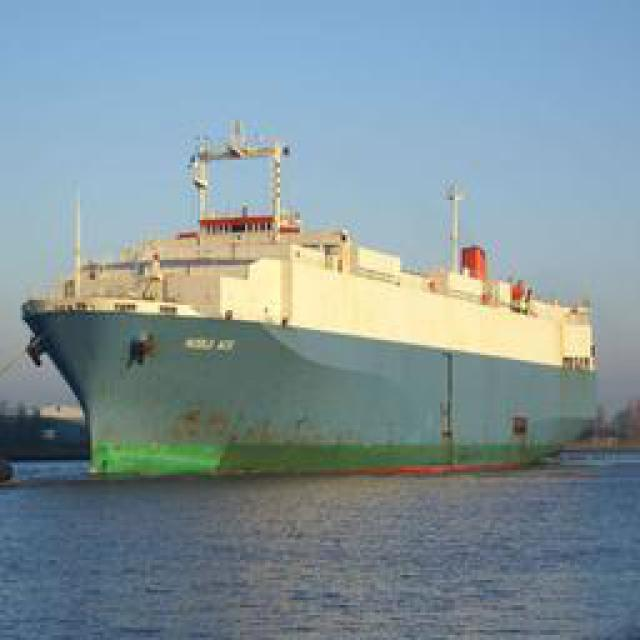Ship: (25, 129, 600, 474)
